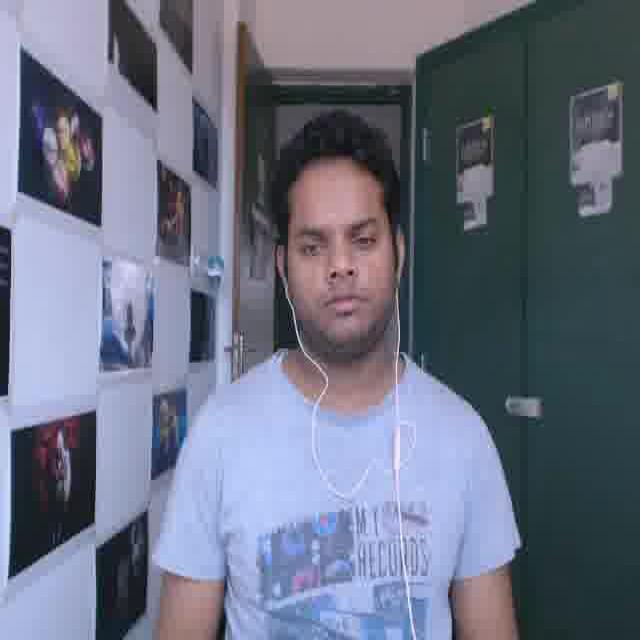Boredom: (287, 171, 387, 340)
